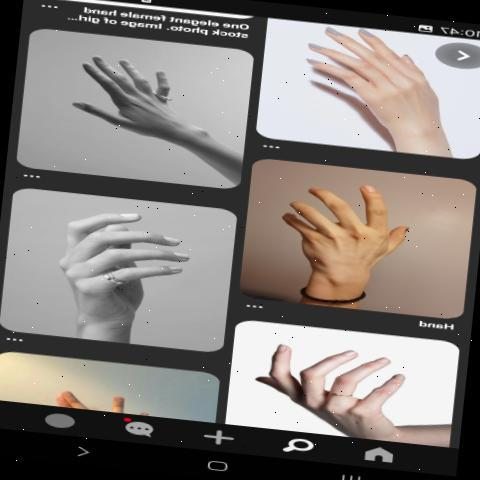Hands: (30, 200, 198, 327), (285, 24, 445, 146), (263, 175, 423, 295), (62, 45, 219, 163), (237, 341, 424, 418)
